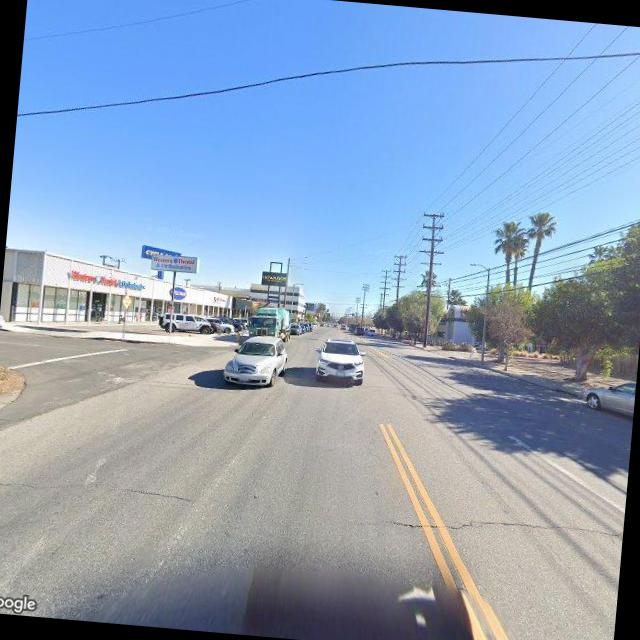crack: (389, 500, 622, 547), (102, 476, 193, 504), (0, 470, 71, 492)
